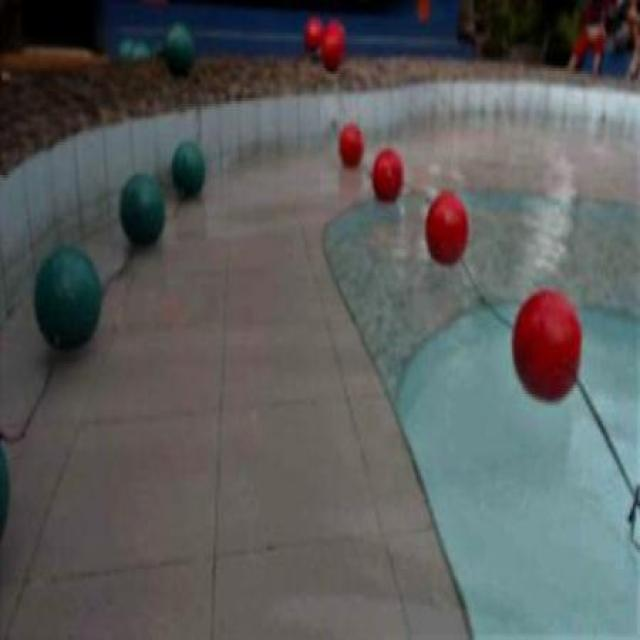buoy: (511, 289, 582, 401), (32, 246, 100, 350), (424, 187, 468, 267), (120, 175, 166, 246), (170, 138, 204, 196), (162, 24, 195, 74), (371, 149, 401, 201), (338, 124, 363, 166), (320, 30, 340, 68)
